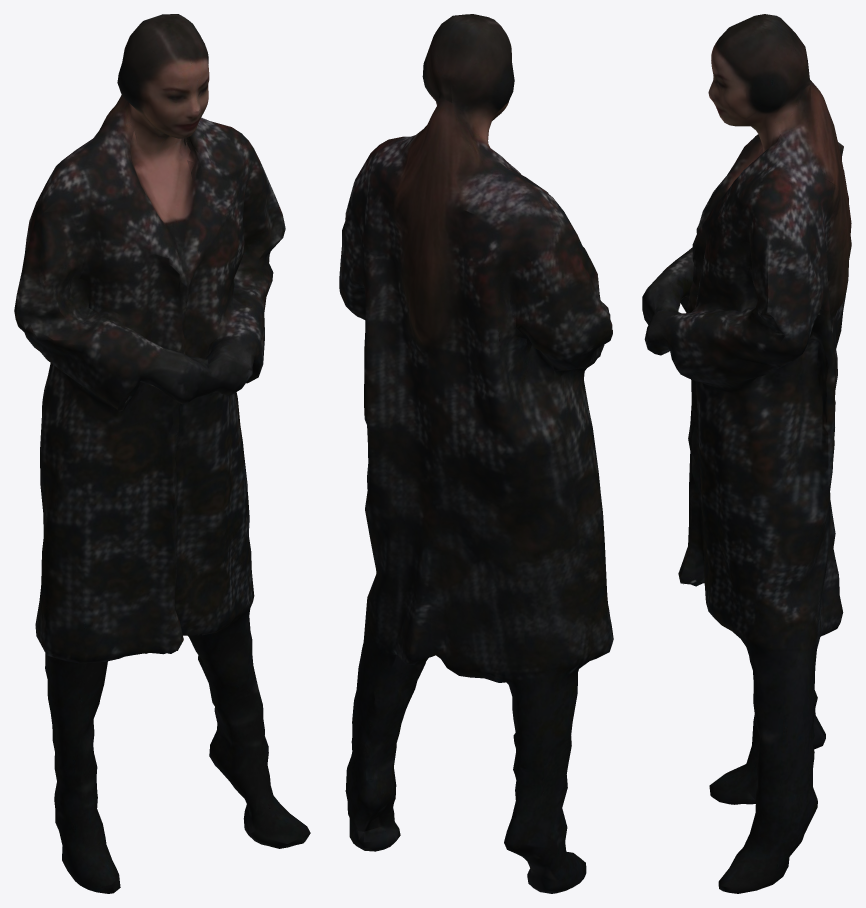
File: evercoast.0050.gltf
3 views of the same model, side by side, from view 1: azimuth 30°, elevation 25°; view 2: azimuth 150°, elevation 25°; view 3: azimuth 270°, elevation 25° (orthographic). The views are drawn at different scales.
Parts seen in each view (by area): view 1: HIGH; view 2: HIGH; view 3: HIGH.
Boxes of the visible parts, <box> form: HIGH: <box>14,14,310,893</box>; HIGH: <box>339,14,613,893</box>; HIGH: <box>642,14,851,893</box>.
Bounding box in the file's own units: 0.618 × 1.83 × 0.4243.
1 material, 1 textured.
